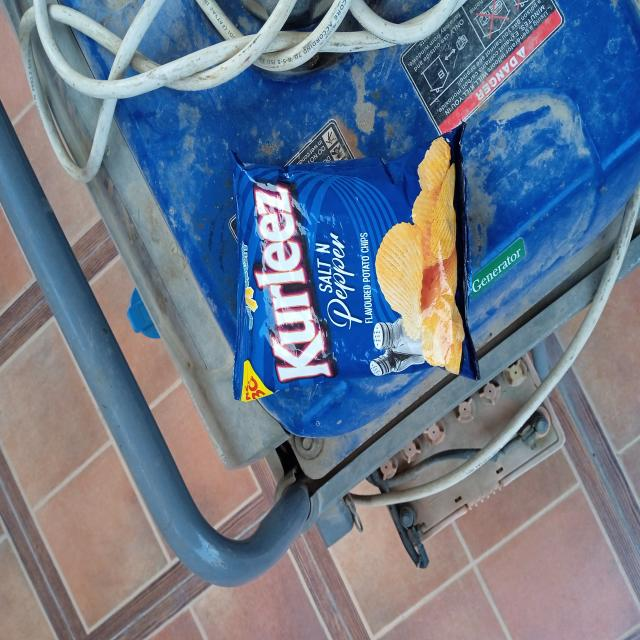Plastic: (242, 160, 480, 386)
